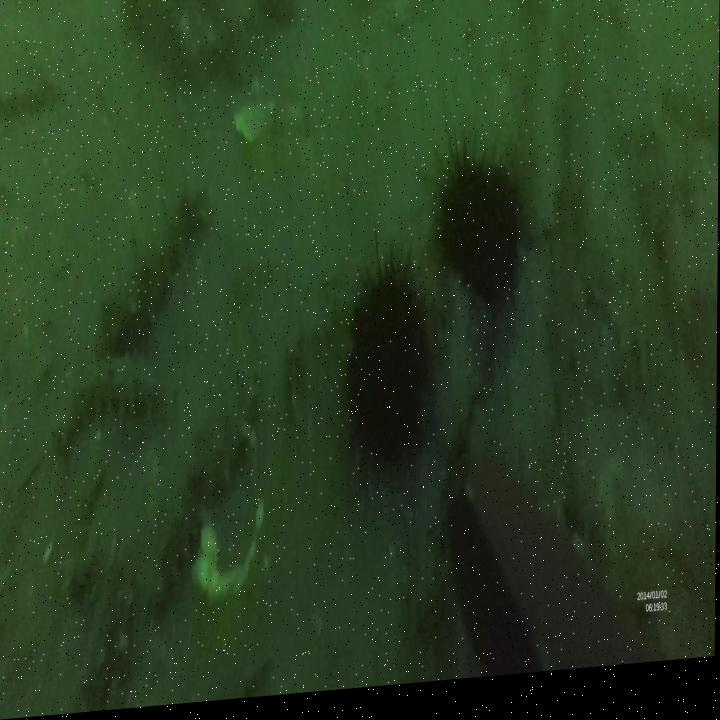echinus: (344, 224, 431, 484), (431, 131, 534, 315)
holothurian: (147, 373, 258, 621), (96, 192, 205, 362), (49, 355, 166, 462)
